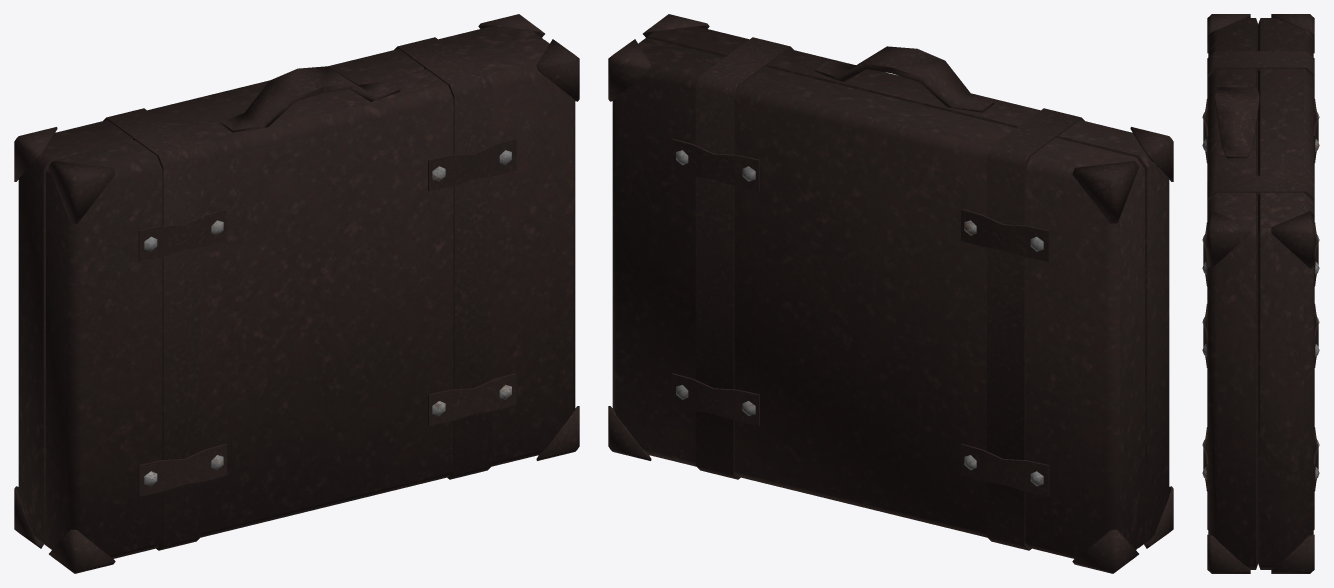
File: Bag.fbx
The picture shows the model from 3 angles, left to right: view 1: azimuth 30°, elevation 25°; view 2: azimuth 150°, elevation 25°; view 3: azimuth 270°, elevation 25°; orthographic projection. The views are drawn at different scales.
Visible parts, largest first — view 1: 立方体, 立方体.002, 平面.002; view 2: 立方体, 立方体.002, 平面.002; view 3: 立方体, 立方体.002, 平面.002.
Part boxes in pixels (x1=…): 立方体: x1=18, y1=26, x2=575, y2=558; 立方体.002: x1=14, y1=14, x2=579, y2=573; 平面.002: x1=144, y1=150, x2=511, y2=486; 立方体: x1=612, y1=26, x2=1169, y2=558; 立方体.002: x1=608, y1=14, x2=1173, y2=573; 平面.002: x1=676, y1=150, x2=1043, y2=486; 立方体: x1=1208, y1=18, x2=1313, y2=569; 立方体.002: x1=1203, y1=14, x2=1318, y2=573; 平面.002: x1=1202, y1=112, x2=1319, y2=479.
Size of the model in its own units: 272 by 216 by 62.01.
